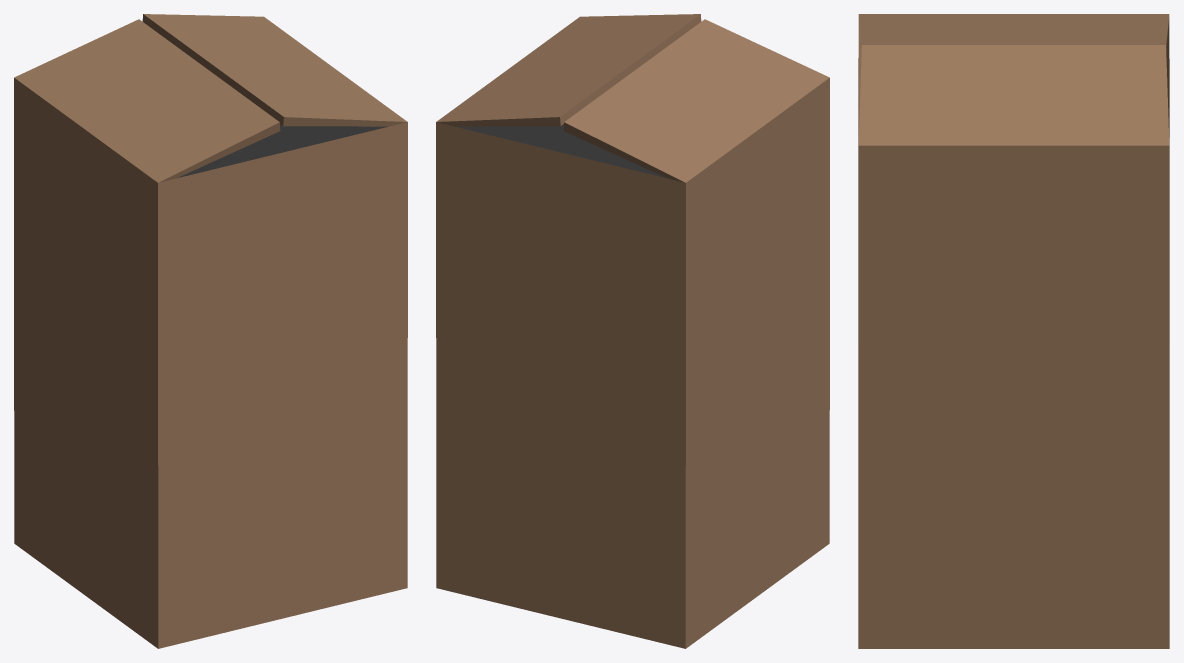
The picture shows the model from 3 angles, left to right: view 1: azimuth 30°, elevation 25°; view 2: azimuth 150°, elevation 25°; view 3: azimuth 270°, elevation 25°; orthographic projection. The views are drawn at different scales.
Parts seen in each view (by area): view 1: Box2; view 2: Box2; view 3: Box2.
Boxes of the visible parts, <box> form: Box2: <box>14,14,407,648</box>; Box2: <box>436,14,829,648</box>; Box2: <box>858,14,1169,648</box>.
Bounding box in the file's own units: 6.33 × 6.32 × 12.09.
